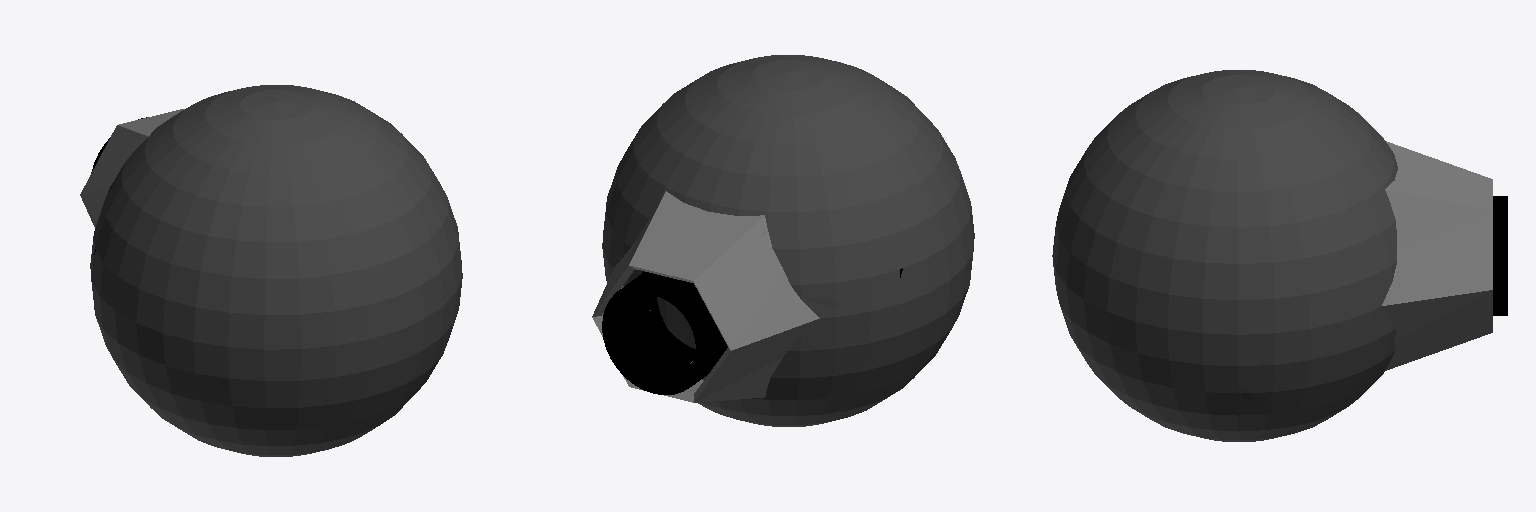
3 views of the same model, side by side, from view 1: azimuth 30°, elevation 25°; view 2: azimuth 150°, elevation 25°; view 3: azimuth 270°, elevation 25° (orthographic).
Visible parts, largest first — view 1: 球, 立方体_立方体.001; view 2: 球, 立方体_立方体.001, 円柱_円柱.001; view 3: 球, 立方体_立方体.001, 円柱_円柱.001.
Boxes of the visible parts, x1=… form: 球: x1=90, y1=85, x2=462, y2=456; 立方体_立方体.001: x1=80, y1=109, x2=184, y2=227; 球: x1=602, y1=55, x2=974, y2=426; 立方体_立方体.001: x1=592, y1=191, x2=819, y2=402; 円柱_円柱.001: x1=602, y1=272, x2=727, y2=394; 球: x1=1052, y1=70, x2=1397, y2=441; 立方体_立方体.001: x1=1382, y1=141, x2=1492, y2=370; 円柱_円柱.001: x1=1493, y1=196, x2=1507, y2=315.
Size of the model in its own units: 2 by 2 by 2.44.
3 materials, 1 textured.